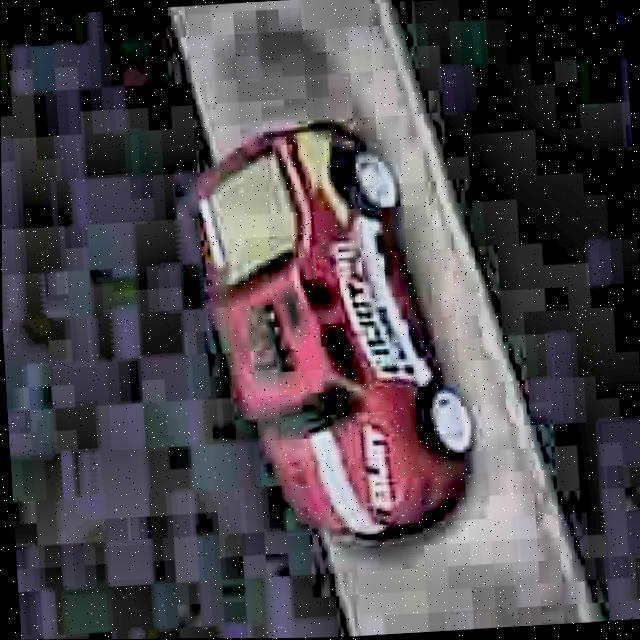car: (177, 109, 481, 552)
